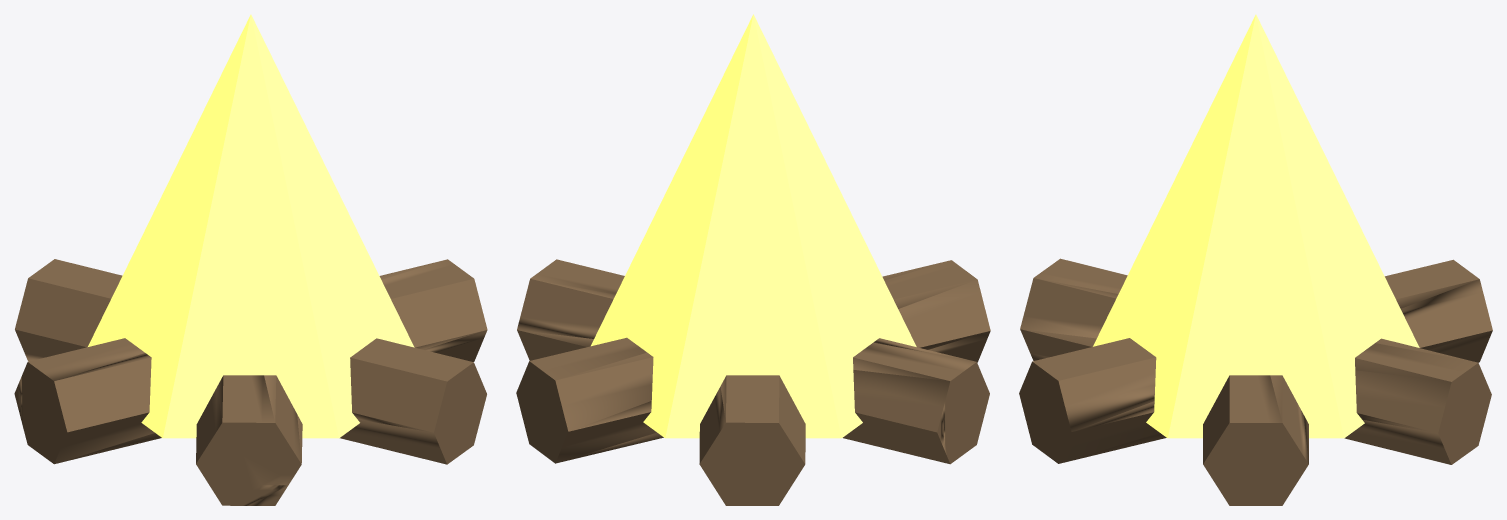
The model's file is campfire.glb.
3 renders of one model, left to right at view 1: azimuth 30°, elevation 25°; view 2: azimuth 150°, elevation 25°; view 3: azimuth 270°, elevation 25°, orthographic.
Parts seen in each view (by area): view 1: CampfireLog0; view 2: CampfireLog0; view 3: CampfireLog0.
Part boxes in pixels (x1,y1,x2,y2): CampfireLog0: [14, 14, 487, 505]; CampfireLog0: [516, 14, 990, 505]; CampfireLog0: [1019, 14, 1492, 505].
Bounding box in the file's own units: 1.1 × 0.9739 × 1.07.
